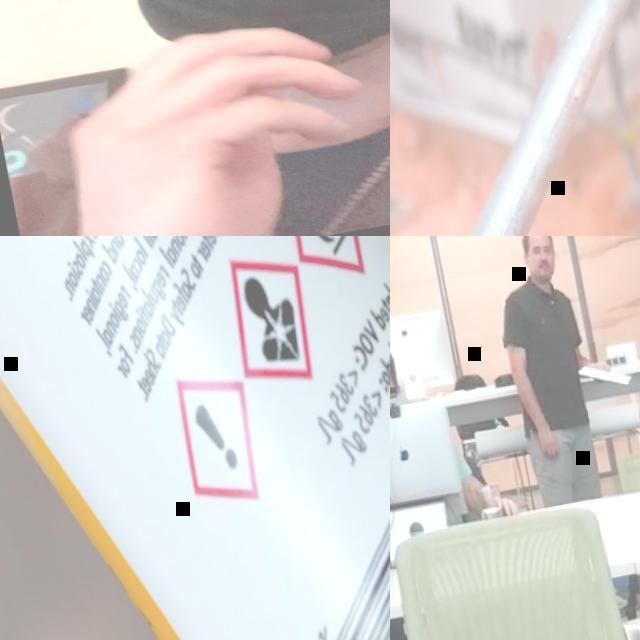Mask: (112, 0, 390, 85)
NO-Hardhat: (519, 236, 553, 249)
NO-Mask: (526, 256, 557, 284)
NO-Safety Vest: (0, 38, 390, 236), (493, 277, 596, 440)
Person: (0, 0, 390, 236), (481, 236, 629, 506), (390, 322, 519, 537)
